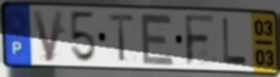5: (67, 11, 98, 65)
E: (139, 11, 177, 67)
F: (183, 13, 218, 68)
L: (221, 17, 249, 67)
T: (107, 13, 137, 64)
V: (29, 8, 66, 64)
